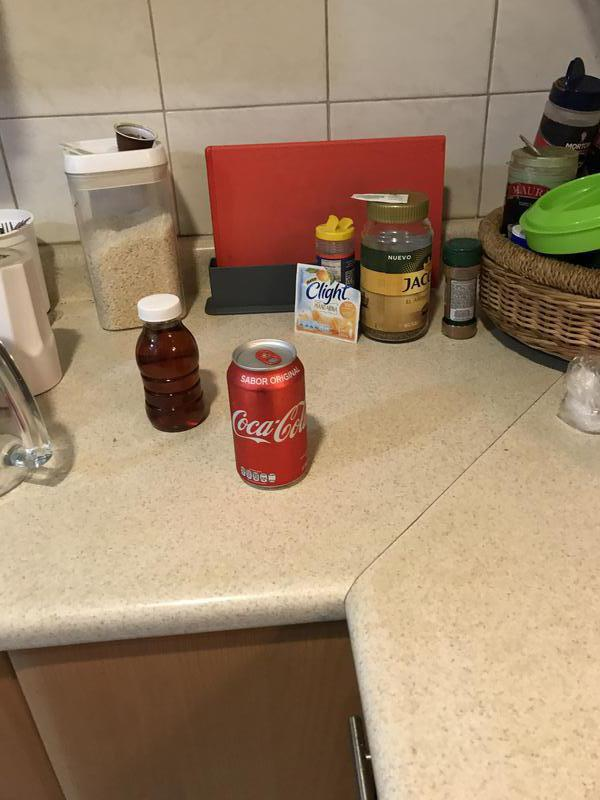coca_cola: (232, 343, 307, 487)
